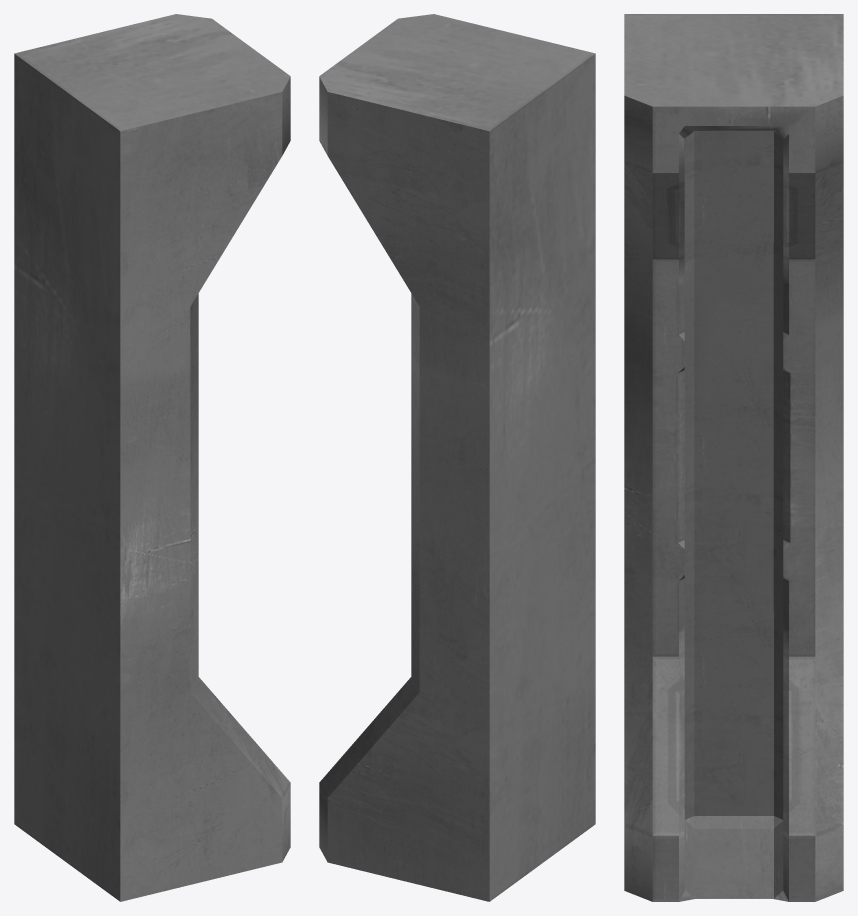
The model's file is corner_Gate_4.fbx.
3 views of the same model, side by side, from view 1: azimuth 30°, elevation 25°; view 2: azimuth 150°, elevation 25°; view 3: azimuth 270°, elevation 25° (orthographic). The views are drawn at different scales.
Parts seen in each view (by area): view 1: corner_Gate_4; view 2: corner_Gate_4; view 3: corner_Gate_4.
Part boxes in pixels (<box>): corner_Gate_4: <box>14,14,290,901</box>; corner_Gate_4: <box>319,14,595,901</box>; corner_Gate_4: <box>624,14,843,901</box>.
Size of the model in its own units: 100 by 400 by 100.
